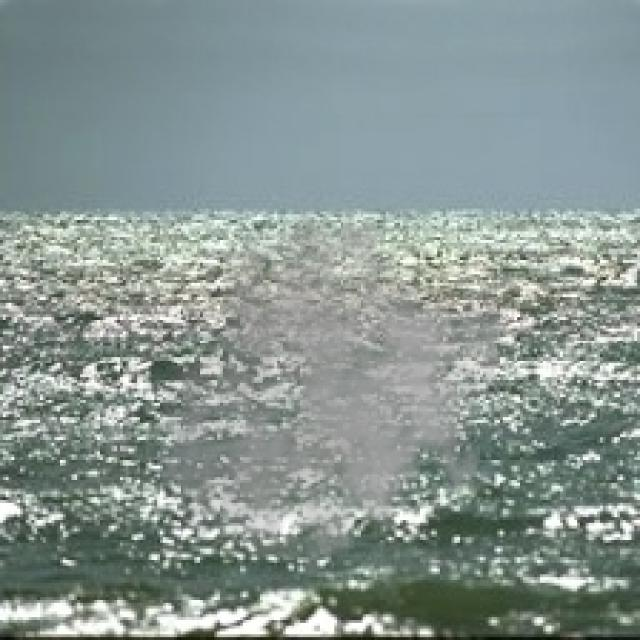smoke: (154, 191, 509, 600)
